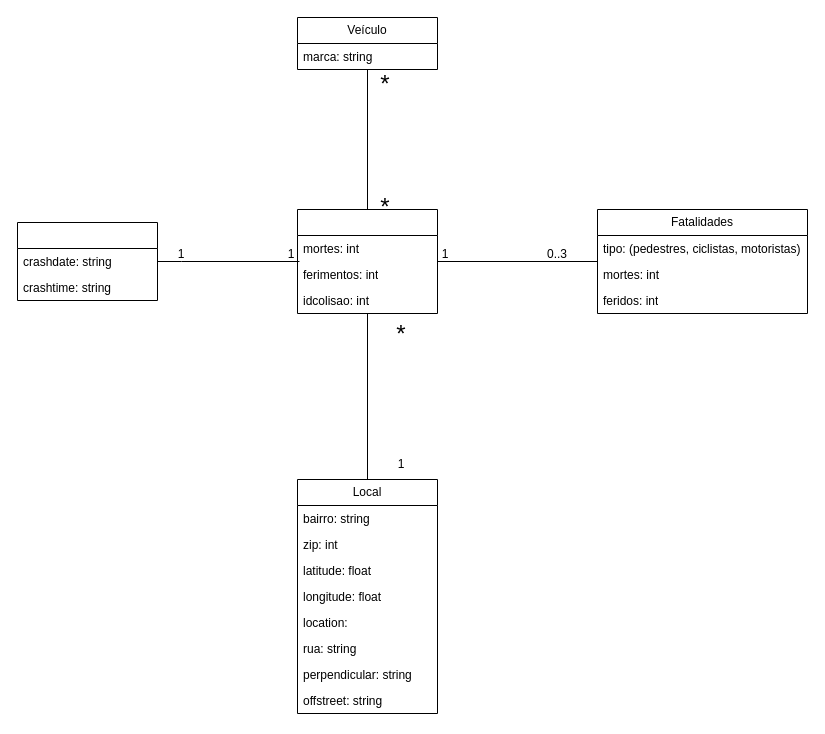
Some shapes in this 825 by 734 pixel diagram are drawn without their labels. Here are the shapes that lost their labels. From the top down, the box of each, then its label:
(16, 222, 158, 300): Acidente
(296, 208, 438, 314): Relatório
